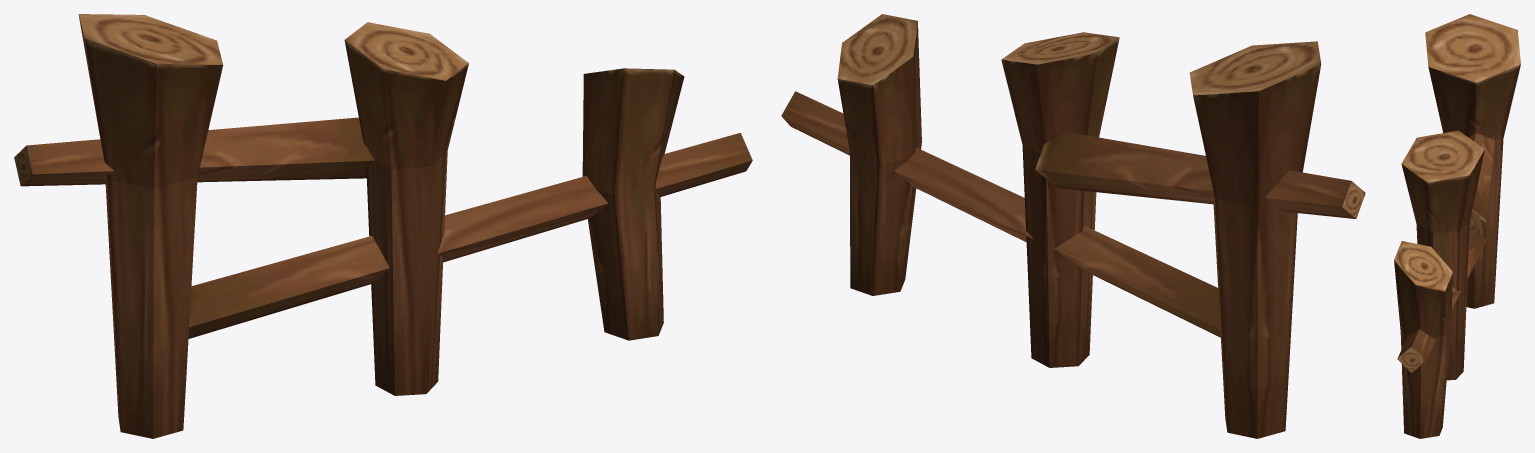
The model's file is cunlou_xiaowujian07.FBX.
The picture shows the model from 3 angles, left to right: view 1: azimuth 30°, elevation 25°; view 2: azimuth 150°, elevation 25°; view 3: azimuth 270°, elevation 25°; orthographic projection. The views are drawn at different scales.
Visible parts, largest first — view 1: cunlou_xiaowujian07; view 2: cunlou_xiaowujian07; view 3: cunlou_xiaowujian07.
Part boxes in pixels (x1,y1,x2,y2): cunlou_xiaowujian07: [14, 14, 752, 438]; cunlou_xiaowujian07: [781, 14, 1365, 438]; cunlou_xiaowujian07: [1394, 14, 1520, 438].
Size of the model in its own units: 76.33 by 44.08 by 19.28.
